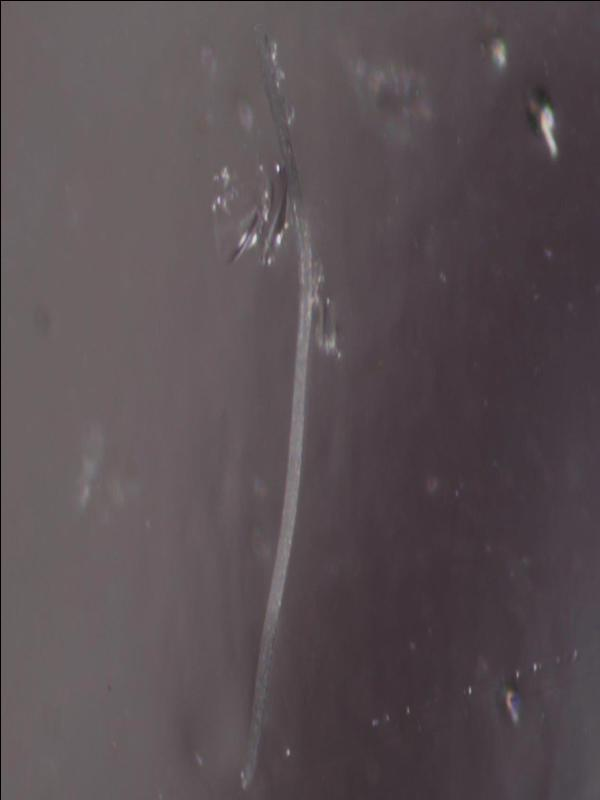microplastic: (209, 22, 342, 789)
